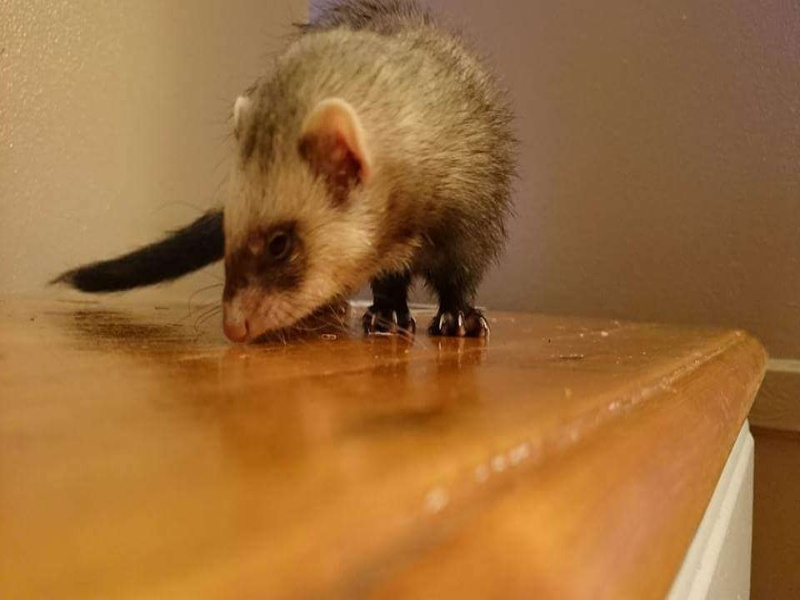minkish: (53, 23, 513, 351)
